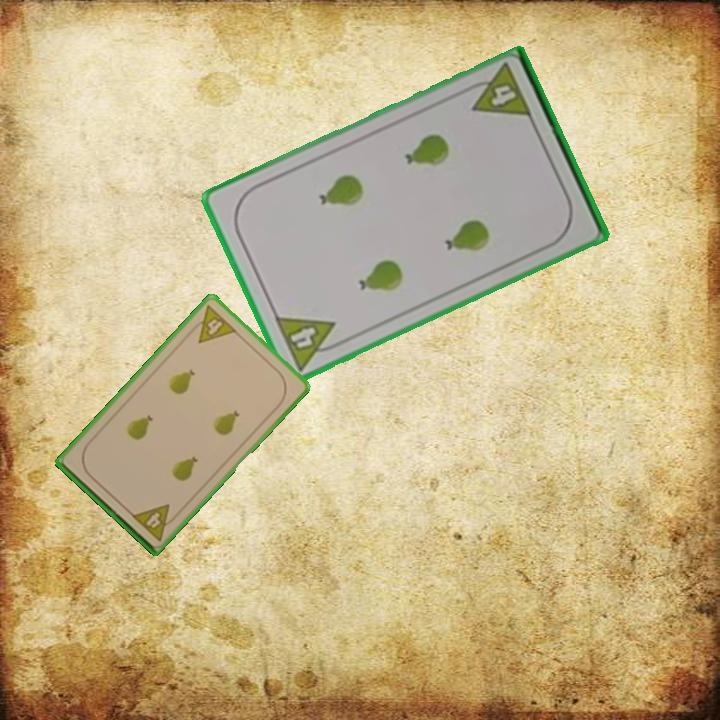4p: (271, 313, 347, 374), (461, 61, 535, 122), (185, 302, 240, 346), (128, 500, 181, 544)
